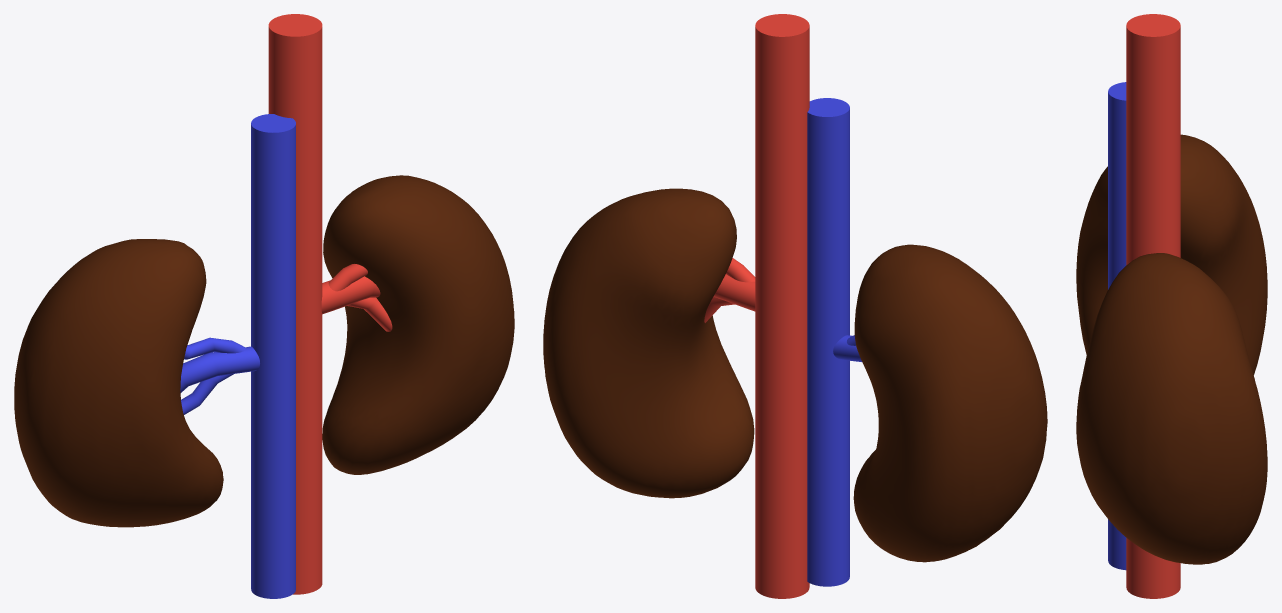
File: kindyes.glb
3 renders of one model, left to right at view 1: azimuth 30°, elevation 25°; view 2: azimuth 150°, elevation 25°; view 3: azimuth 270°, elevation 25°, orthographic.
Visible parts, largest first — view 1: Sphere; view 2: Sphere; view 3: Sphere.
Part boxes in pixels (<box>): Sphere: <box>14,14,514,598</box>; Sphere: <box>543,14,1047,598</box>; Sphere: <box>1076,14,1267,598</box>.
Size of the model in its own units: 8.91 by 9.92 by 3.06.
